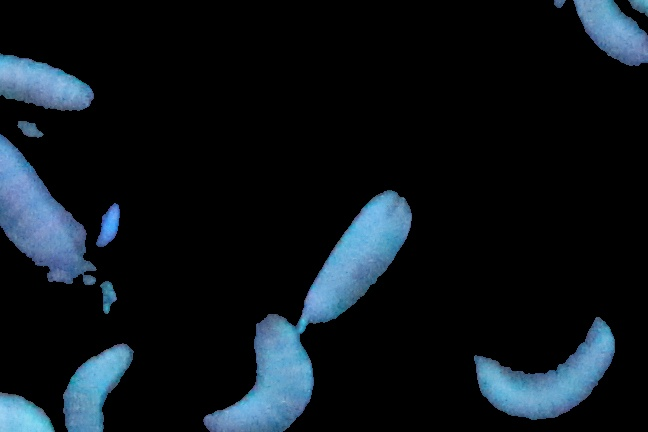larvae: (298, 186, 413, 329), (470, 312, 616, 424), (1, 124, 93, 284), (203, 312, 314, 432), (52, 337, 143, 432), (1, 43, 101, 114), (566, 1, 648, 67)
